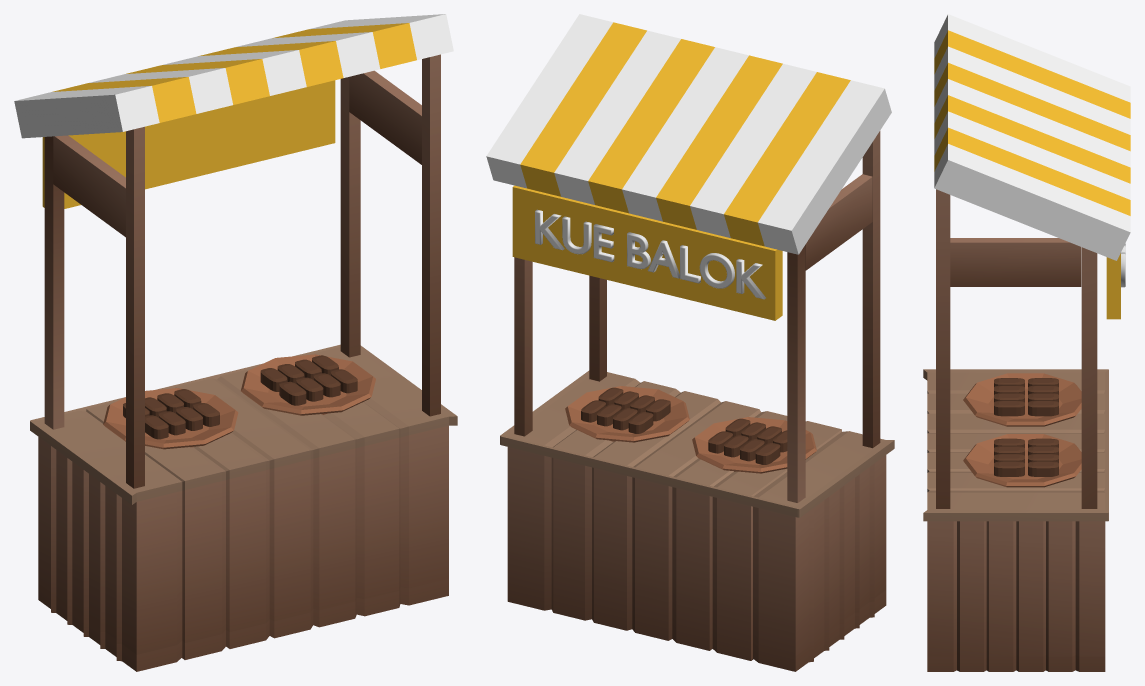
Rendered from Tenant Balok.fbx.
The picture shows the model from 3 angles, left to right: view 1: azimuth 30°, elevation 25°; view 2: azimuth 150°, elevation 25°; view 3: azimuth 270°, elevation 25°; orthographic projection. The views are drawn at different scales.
Parts seen in each view (by area): view 1: Cube.012, Cube.011, Cube.020, Cube.013, Cube.017, Cube.016, Cube.014, Cube.018, Cube.019, Cylinder.010, Cylinder.011; view 2: Cube.012, Cube.011, Cube.020, Cube.013, Text.003, Cube.016, Cube.014, Cube.018, Cylinder.010, Cylinder.011, Cube.017; view 3: Cube.012, Cube.011, Cube.019, Cube.017, Cube.014, Cylinder.010, Cylinder.011, Cube.020, Cube.070, Cube.074, Cube.053, Cube.059.
Part boxes in pixels (x1,y1,x2,y2): Cube.012: (30,344,457,671); Cube.011: (14,14,453,138); Cube.020: (42,80,335,208); Cube.013: (126,126,144,488); Cube.017: (422,54,440,416); Cube.016: (44,136,64,429); Cube.014: (340,77,360,357); Cube.018: (53,135,125,237); Cube.019: (349,70,421,164); Cylinder.010: (241,354,375,415); Cylinder.011: (103,388,238,449); Cube.012: (500,370,894,671); Cube.011: (486,14,891,254); Cube.020: (512,185,782,320); Cube.013: (862,131,880,448); Text.003: (535,209,765,299); Cube.016: (787,245,805,502); Cube.014: (514,257,532,436); Cube.018: (805,174,872,270); Cylinder.010: (565,386,689,442); Cylinder.011: (692,417,816,473); Cube.017: (589,275,606,381); Cube.012: (923,369,1108,671); Cube.011: (934,14,1130,260); Cube.019: (950,238,1081,286); Cube.017: (936,189,950,508); Cube.014: (1081,247,1097,508); Cylinder.010: (963,434,1081,487); Cylinder.011: (963,373,1081,426); Cube.020: (1106,253,1120,319); Cube.070: (994,400,1024,416); Cube.074: (1028,400,1058,416); Cube.053: (994,461,1024,476); Cube.059: (1028,461,1058,476).
Size of the model in its own units: 425 by 701 by 255.
